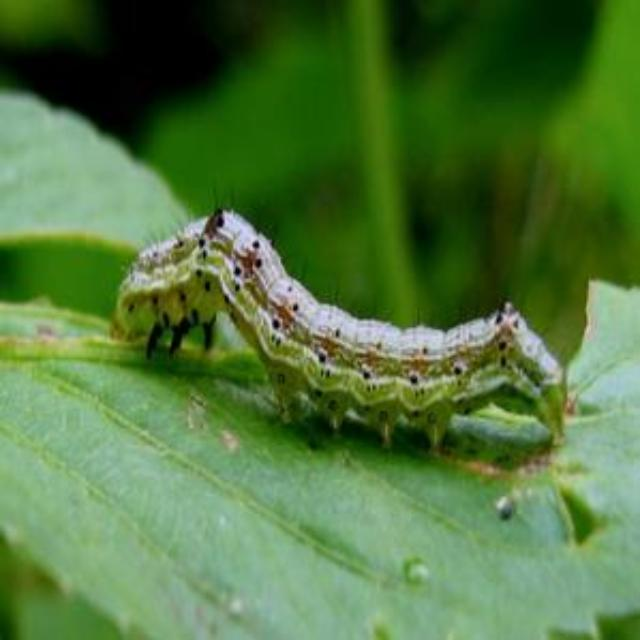Cotton bollworm: (105, 156, 593, 504)
